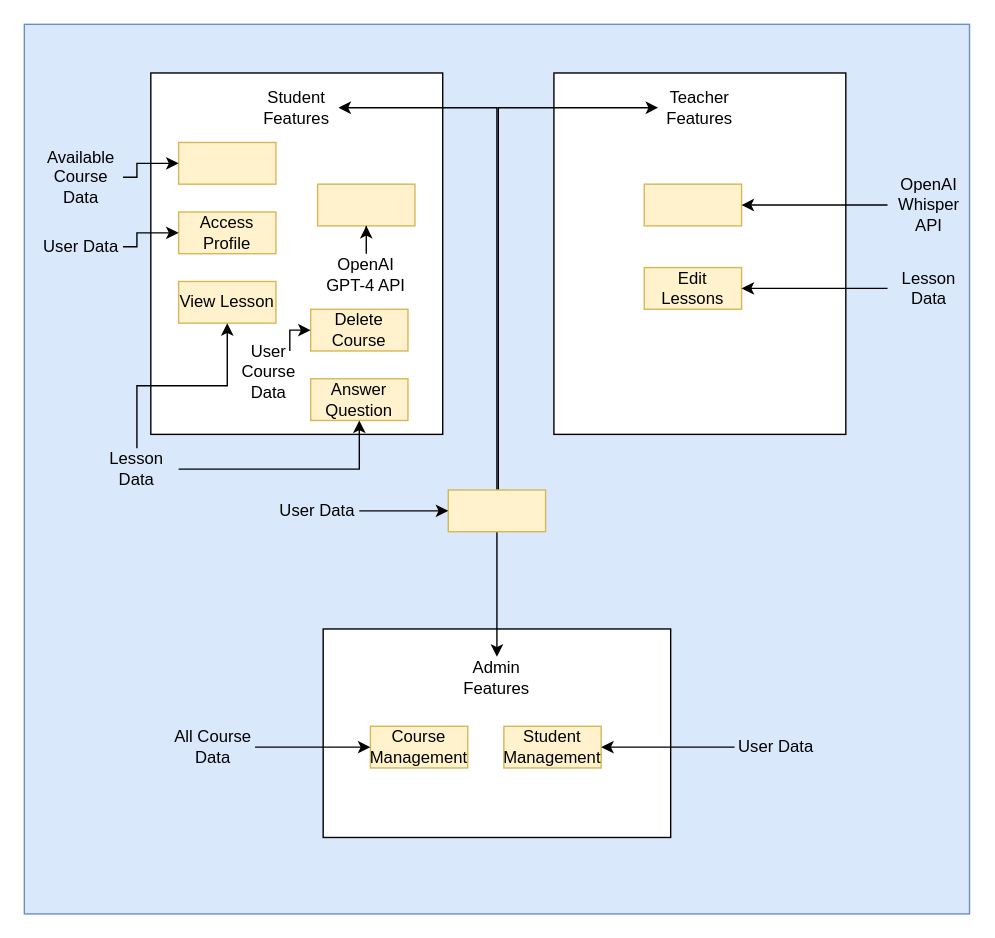
Some shapes in this 995 by 938 pixel diagram are drawn without their labels. Each missing label, with the centre of its shape:
"Add Course" goes at (226,162).
"Login" goes at (496,510).
"Review Question" goes at (365,204).
"Upload Video" goes at (692,204).
